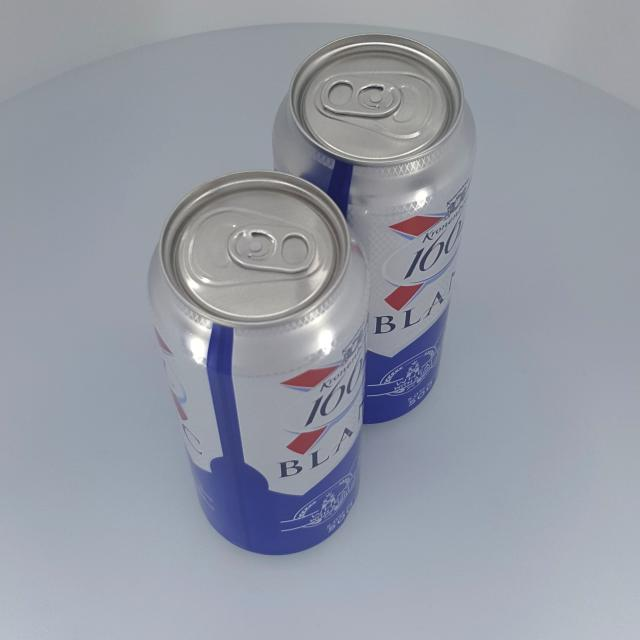beer-can: (146, 170, 369, 556), (272, 33, 476, 425)
